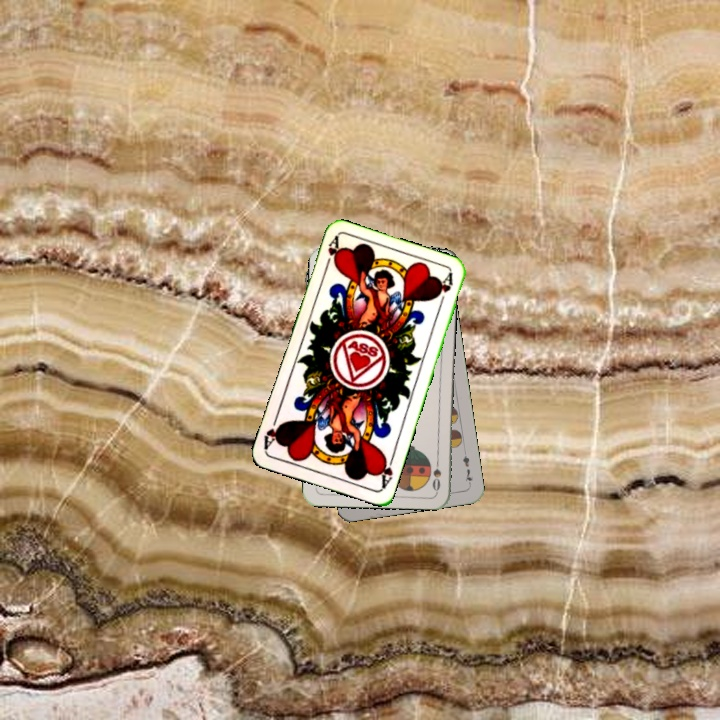E7: (459, 452, 475, 487)
HA: (320, 233, 343, 273), (375, 450, 397, 490)
SO: (428, 453, 443, 493)
